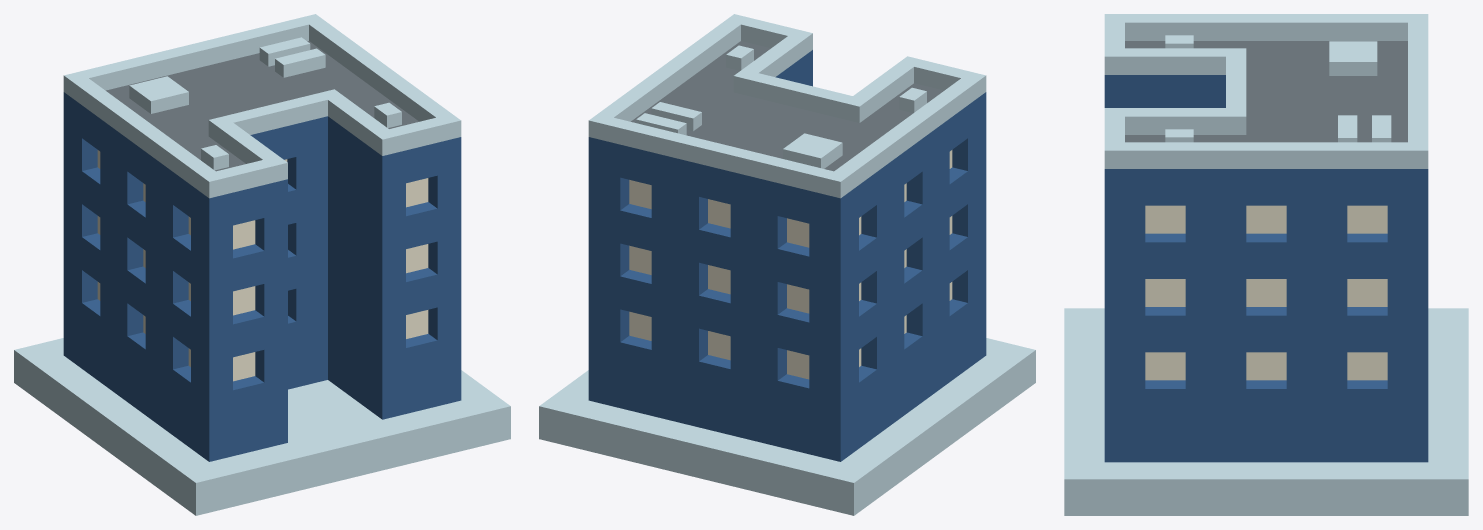
The model's file is Building_5_Base_Extra (Blue).obj.
3 renders of one model, left to right at view 1: azimuth 30°, elevation 25°; view 2: azimuth 150°, elevation 25°; view 3: azimuth 270°, elevation 25°, orthographic. The views are drawn at different scales.
Parts seen in each view (by area): view 1: Building_5_Base_Extra_(Blue); view 2: Building_5_Base_Extra_(Blue); view 3: Building_5_Base_Extra_(Blue).
Part boxes in pixels (<box>): Building_5_Base_Extra_(Blue): <box>14,14,510,515</box>; Building_5_Base_Extra_(Blue): <box>539,14,1035,515</box>; Building_5_Base_Extra_(Blue): <box>1064,14,1468,515</box>.
Bounding box in the file's own units: 2 × 1.9 × 2.
